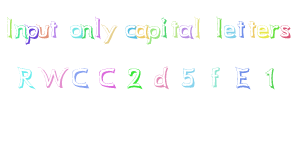1: (260, 63, 282, 90)
2: (125, 64, 146, 92)
5: (178, 58, 200, 94)
C: (94, 64, 121, 91), (72, 64, 91, 91)
E: (231, 62, 254, 92)
I: (2, 15, 16, 41)
R: (13, 63, 36, 91)
W: (38, 64, 69, 90)
a: (179, 18, 193, 43), (136, 20, 150, 41)
c: (124, 21, 137, 39)
d: (151, 62, 173, 92)
e: (256, 20, 270, 41), (223, 22, 237, 40)
f: (208, 63, 224, 93)
i: (159, 14, 170, 43)
l: (193, 15, 207, 45), (93, 15, 103, 41), (215, 16, 223, 41)
n: (83, 18, 95, 46), (13, 19, 27, 42)
o: (68, 20, 83, 42)
p: (26, 22, 39, 46), (148, 23, 161, 46)
r: (269, 20, 280, 42)
s: (281, 20, 292, 43)
t: (169, 17, 180, 41), (236, 16, 247, 40), (248, 17, 258, 43), (51, 16, 61, 41)
u: (37, 21, 49, 43)
y: (102, 22, 119, 48)
